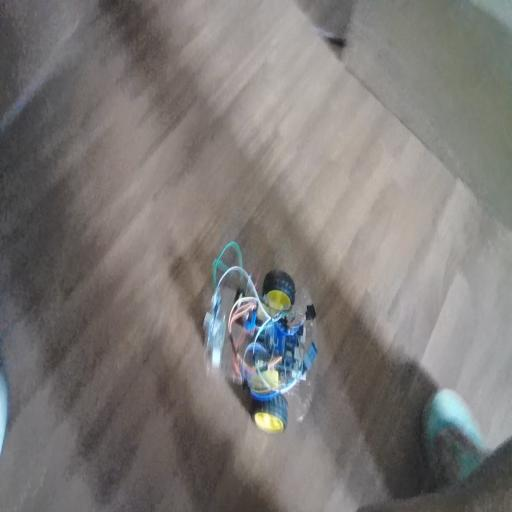car: (218, 248, 336, 456)
